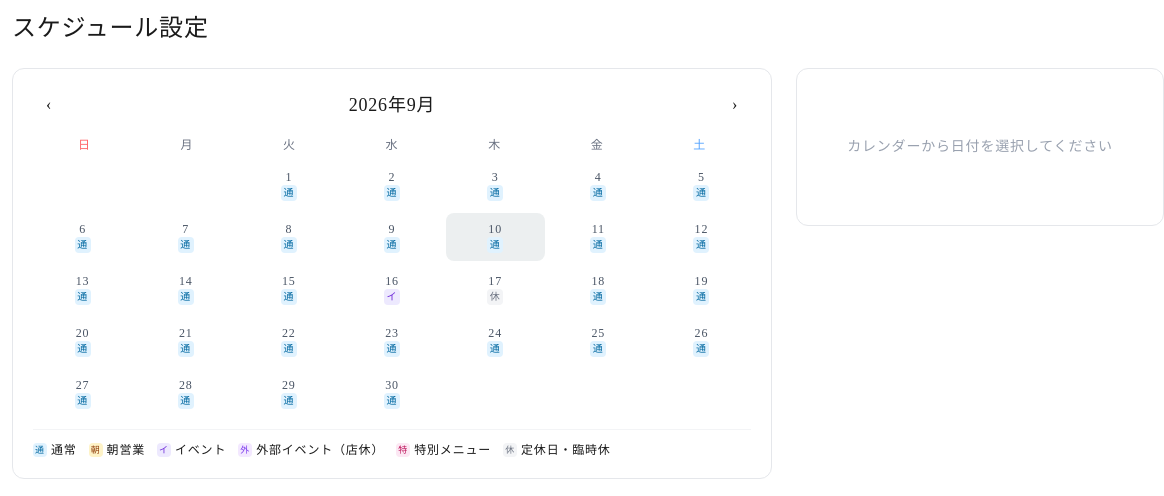
Test: ScheduleCalendar › 保存の VALIDATION_ERROR は details のメッセージを連結して表示する
This screenshot has width=1164, height=496.
Click the button "15 通" at [289, 289], box [239,265,338,313]
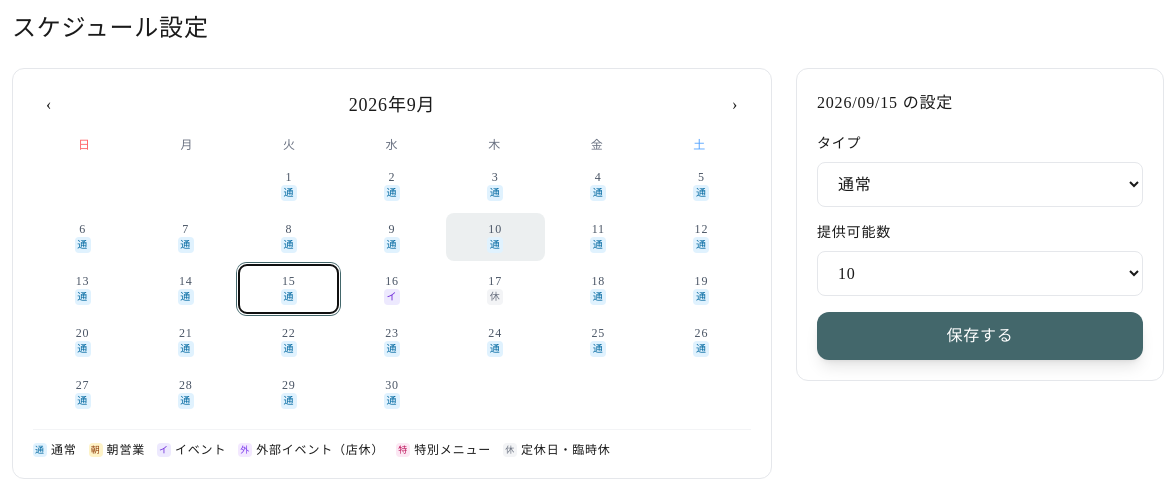
Click the button "保存する" at [980, 336], box [817,312,1143,360]
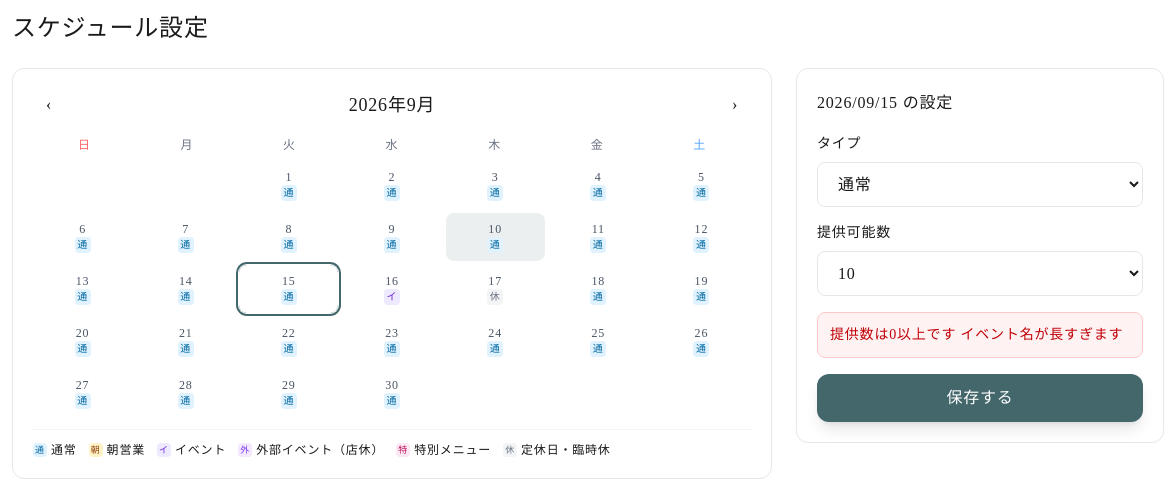
Now the message reads "提供数は0以上です イベント名が長すぎます", box [830,327,1123,342]
